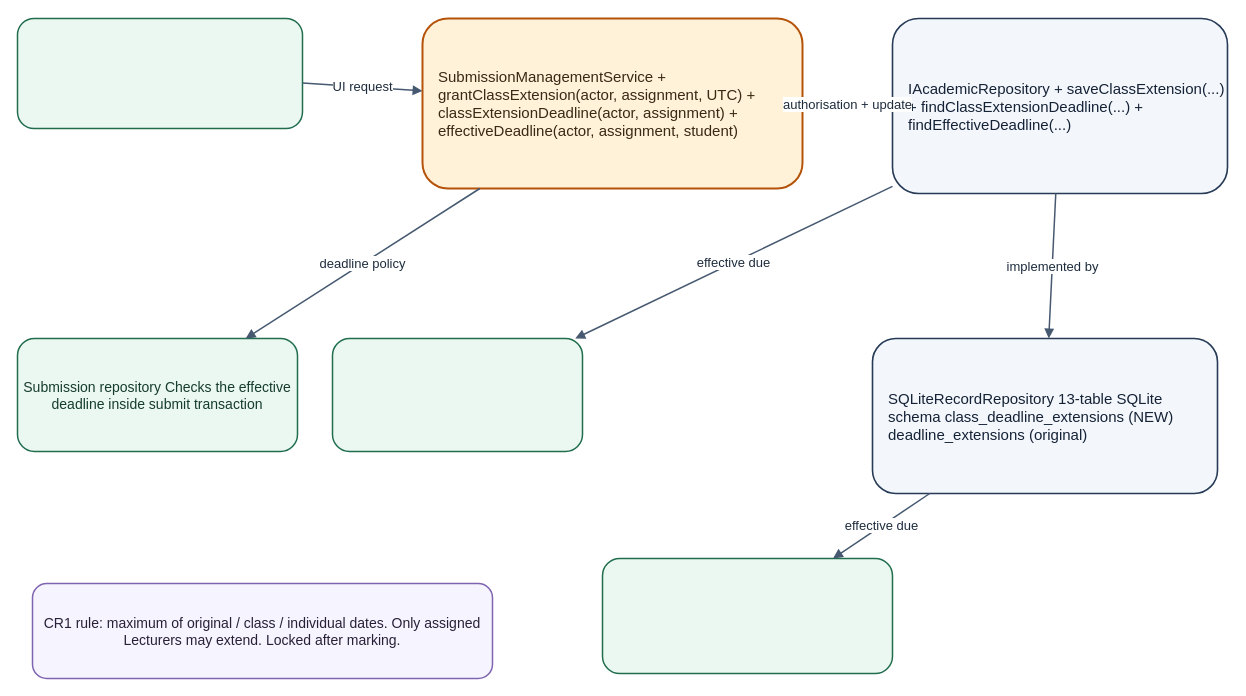
Image size: 1246x696. Some labels were removed from this diagram. Each missing label, with the centre of its shape:
AssignmentPanel (Qt Widgets) + grantClassExtension() + show Class due / Your due: the point at 159,73
HoD ModerationService Blocks approval and release until effective deadline: the point at 747,615
MarkingService Calculates late penalties from effective deadline: the point at 457,394
